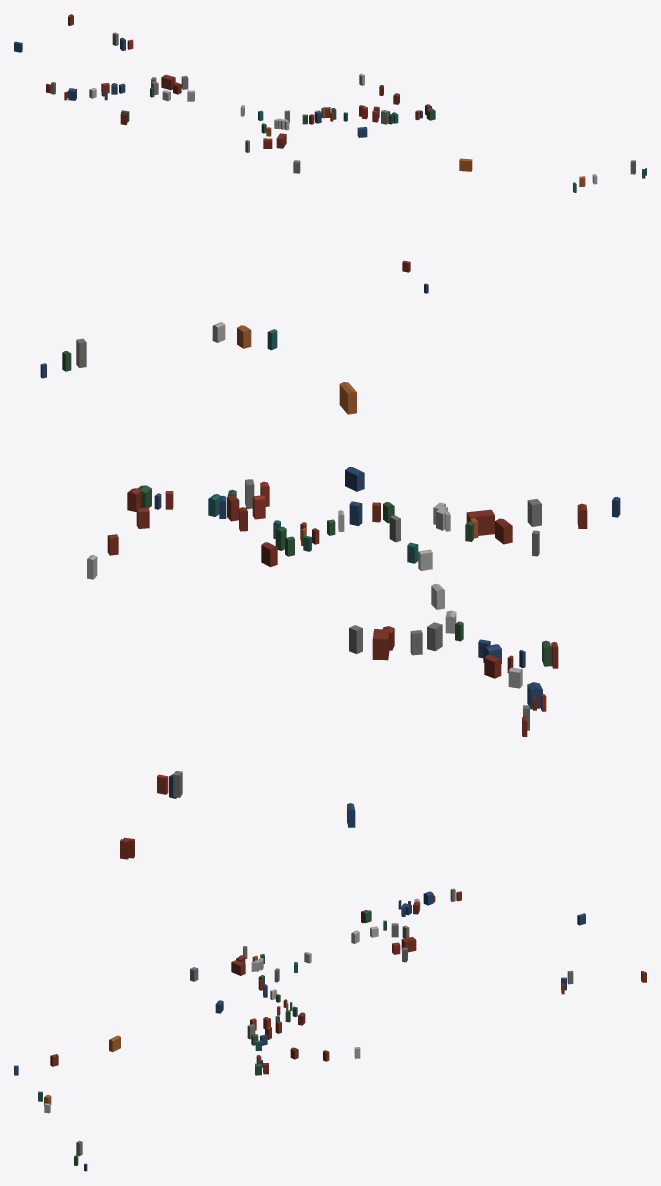
Rendered from near-15-27357-14865.4e8bdbd0.glb.
3 renders of one model, top to bottom at view 1: azimuth 30°, elevation 25°; view 2: azimuth 150°, elevation 25°; view 3: azimuth 270°, elevation 25°, orthographic. The views are drawn at different scales.
Size of the model in its own units: 914 by 211 by 1135.
